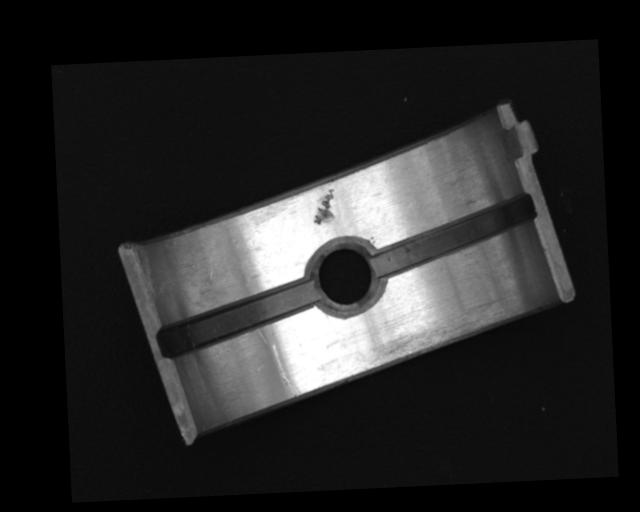bruise: (312, 187, 337, 226)
gap: (370, 192, 535, 279), (155, 280, 319, 357)
hole: (303, 238, 385, 315)
nick: (273, 342, 302, 398)
scratch: (311, 292, 519, 384)
